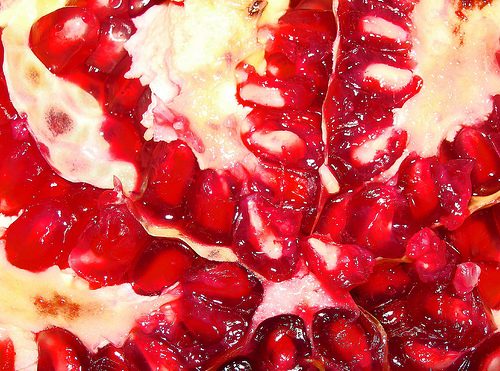pomogranate: (1, 1, 499, 370)
